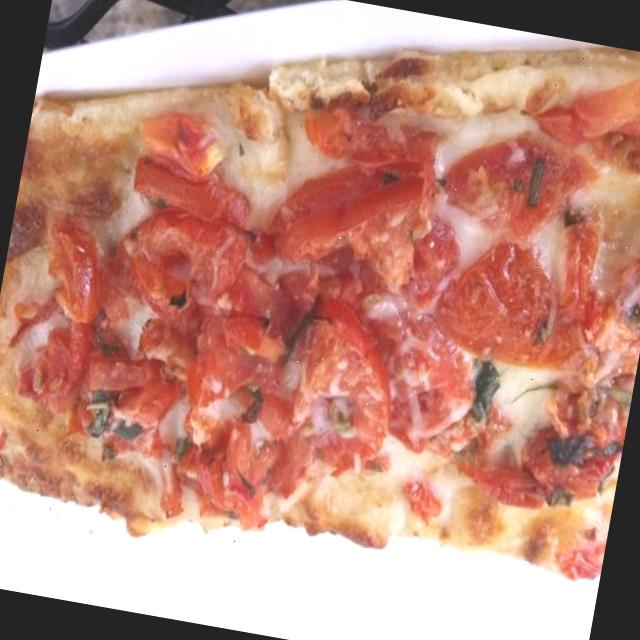basil: (537, 418, 618, 478), (459, 356, 515, 434), (512, 148, 558, 224), (78, 376, 124, 448), (107, 406, 159, 452)
pizza: (0, 49, 640, 578)
tomato: (416, 212, 619, 400), (268, 296, 440, 482), (252, 134, 437, 300), (433, 140, 620, 270), (10, 330, 188, 462), (118, 285, 280, 426), (121, 120, 268, 247), (170, 414, 299, 534), (122, 200, 253, 318), (456, 428, 606, 528), (41, 210, 121, 334)
